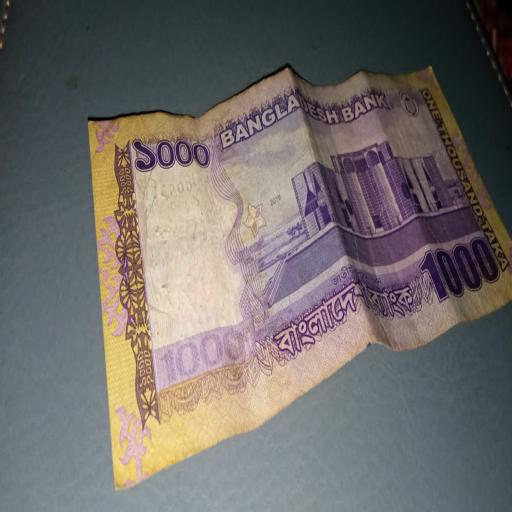1000taka: (90, 62, 512, 488)
